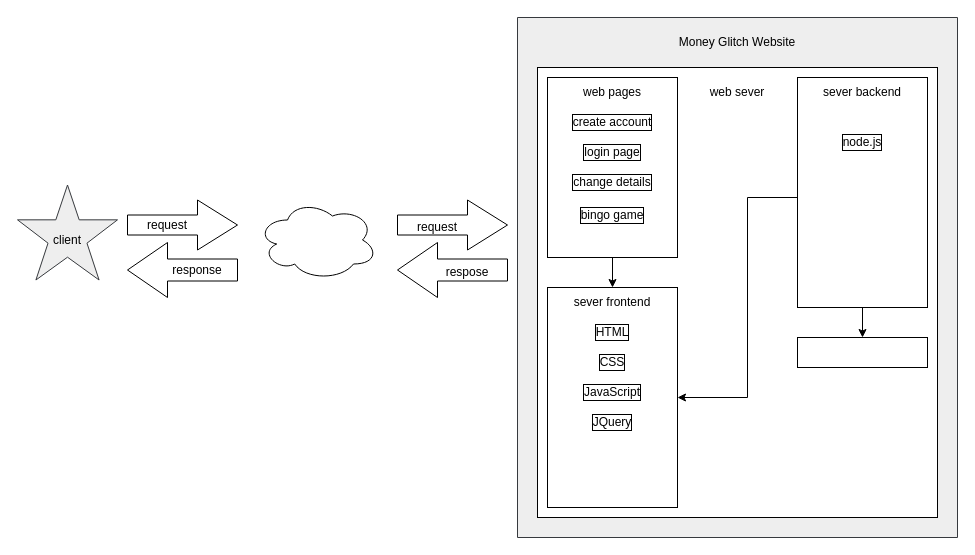
Some shapes in this 975 by 555 pixel diagram are drawn without their labels. Here are the shapes that lost their labels. From the top down, the centre of each, then its label:
[317,239]: internet
[862,352]: database
